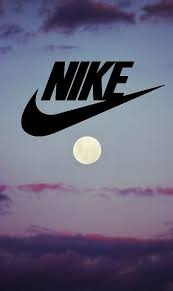nike: (20, 83, 164, 138)
